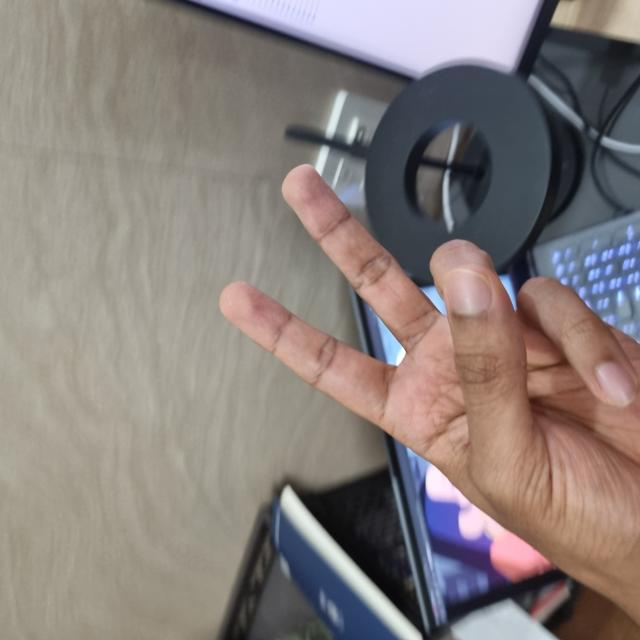Scissors: (2, 223, 465, 639)
